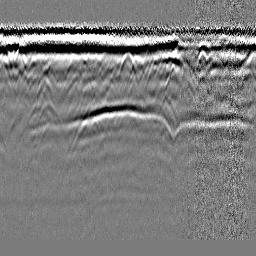cavity: (116, 51, 139, 81)
